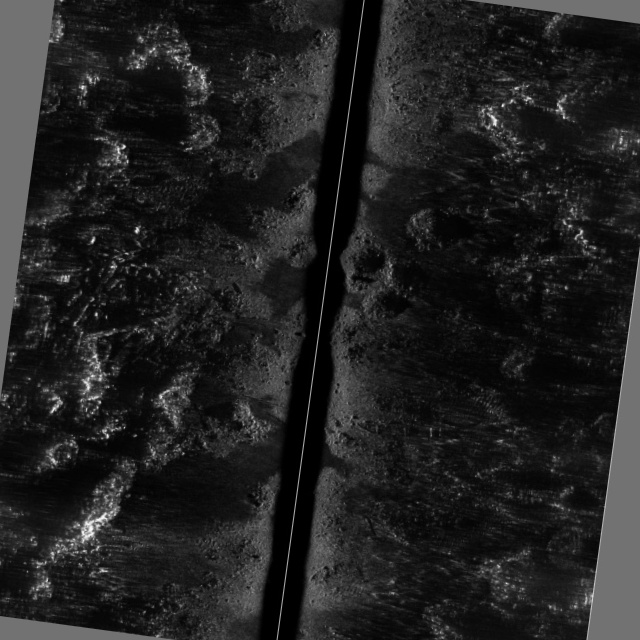Shipwreck: (46, 143, 493, 548)
